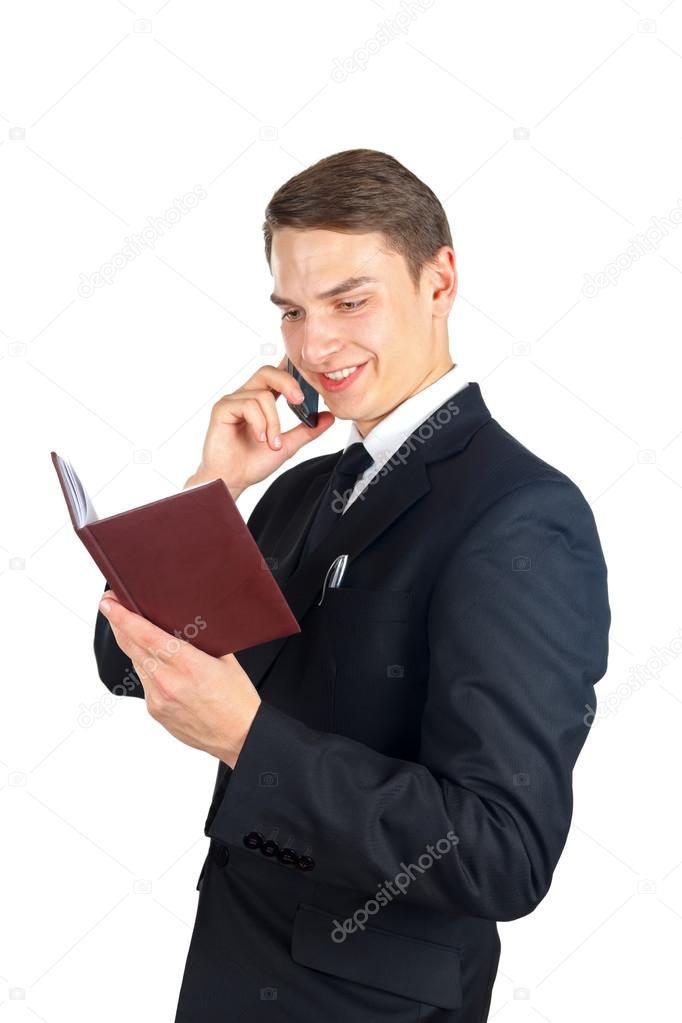phone: (243, 320, 347, 423)
talk: (209, 270, 384, 470)
